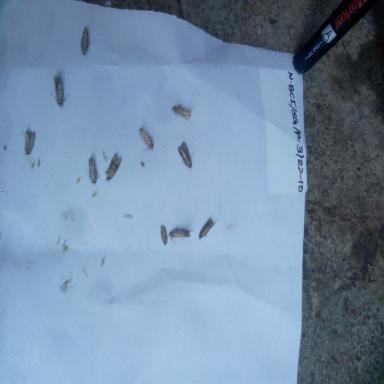pbw: (50, 68, 70, 108), (196, 216, 220, 242), (79, 23, 96, 58), (176, 140, 194, 172), (167, 224, 193, 246), (105, 152, 122, 185), (170, 101, 196, 122), (83, 156, 100, 187), (20, 128, 36, 158), (139, 126, 156, 154), (158, 222, 169, 248)
